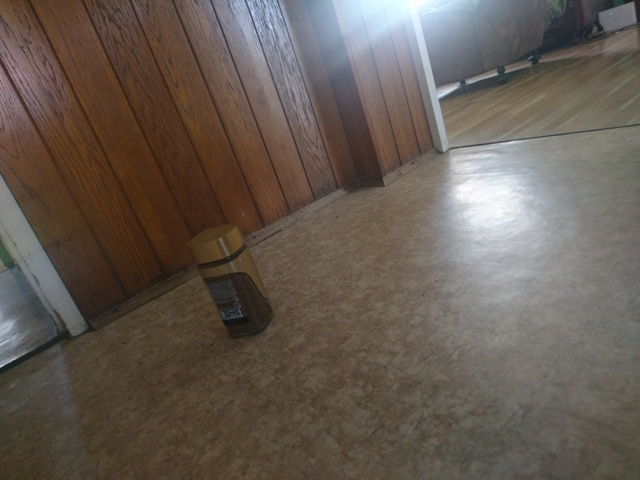Nescafe Gold 225g: (182, 221, 276, 340)
